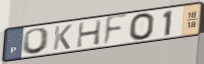1: (162, 9, 175, 38)
F: (102, 13, 130, 48)
H: (76, 19, 104, 50)
K: (52, 24, 74, 52)
O: (21, 27, 52, 56), (128, 12, 156, 42)
